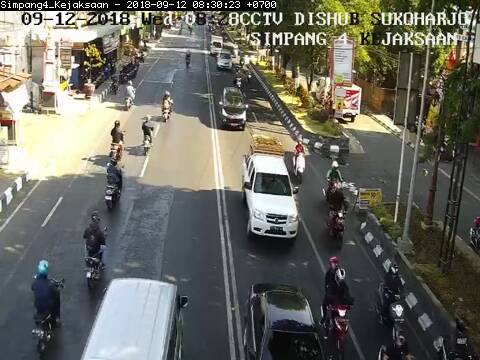motor: (320, 253, 352, 356), (376, 263, 410, 327), (325, 179, 351, 248), (291, 136, 306, 182)
